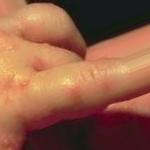Ants: (64, 80, 81, 97), (15, 73, 29, 86), (99, 84, 111, 95)
